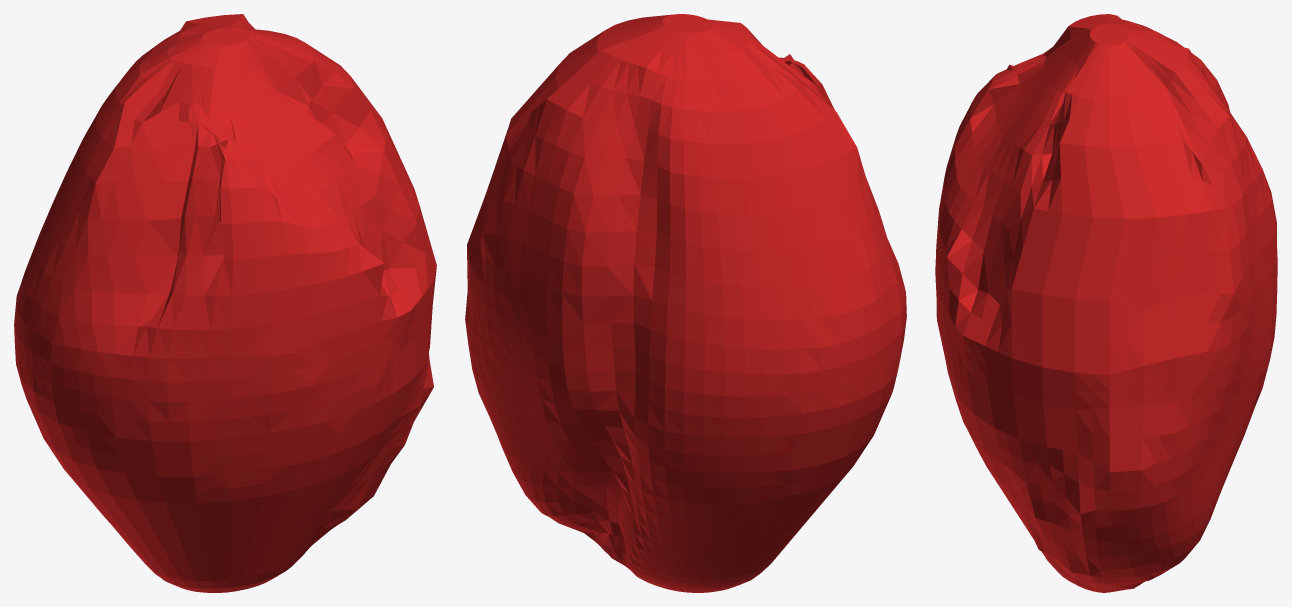
The model's file is HeartBottom.obj.
3 renders of one model, left to right at view 1: azimuth 30°, elevation 25°; view 2: azimuth 150°, elevation 25°; view 3: azimuth 270°, elevation 25°, orthographic. The views are drawn at different scales.
Visible parts, largest first — view 1: 円柱; view 2: 円柱; view 3: 円柱.
Boxes of the visible parts, x1,y1,x2,y2 form: 円柱: (14,14,436,592); 円柱: (465,14,906,592); 円柱: (935,14,1277,592).
Size of the model in its own units: 1.56 by 2.05 by 1.17.
